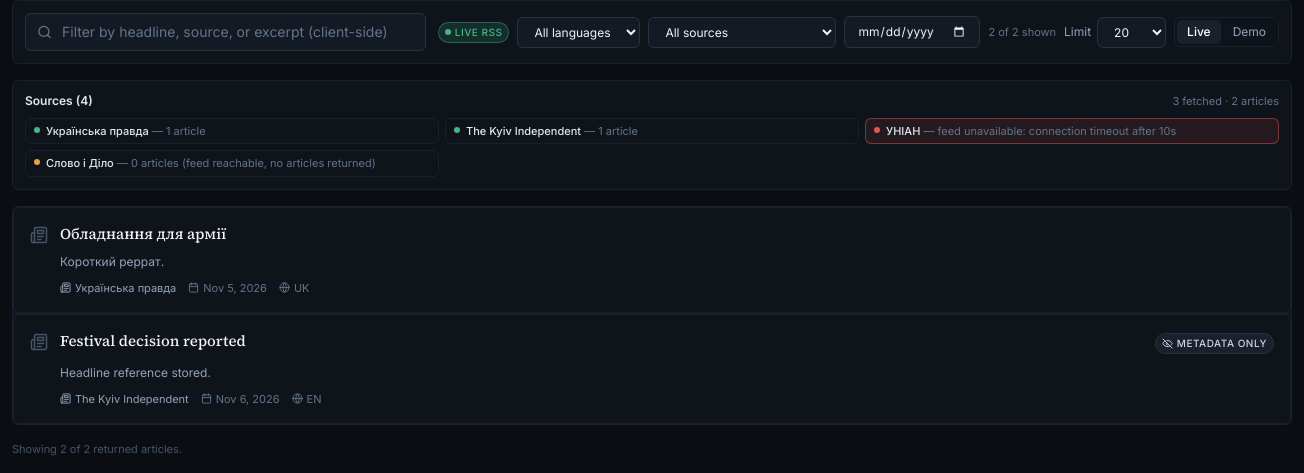
Test case: NewsPage — Slice B source behavior › 3. the publication-date filter shows only articles of that date
The width and height of the screenshot is (1304, 473).
Check: the heading "Обладнання для армії" is shown, box [60,224,226,244]
Type "2026-11-05" into the date field named "Filter by publication date". click: [912, 32]
box: [844,16,980,48]
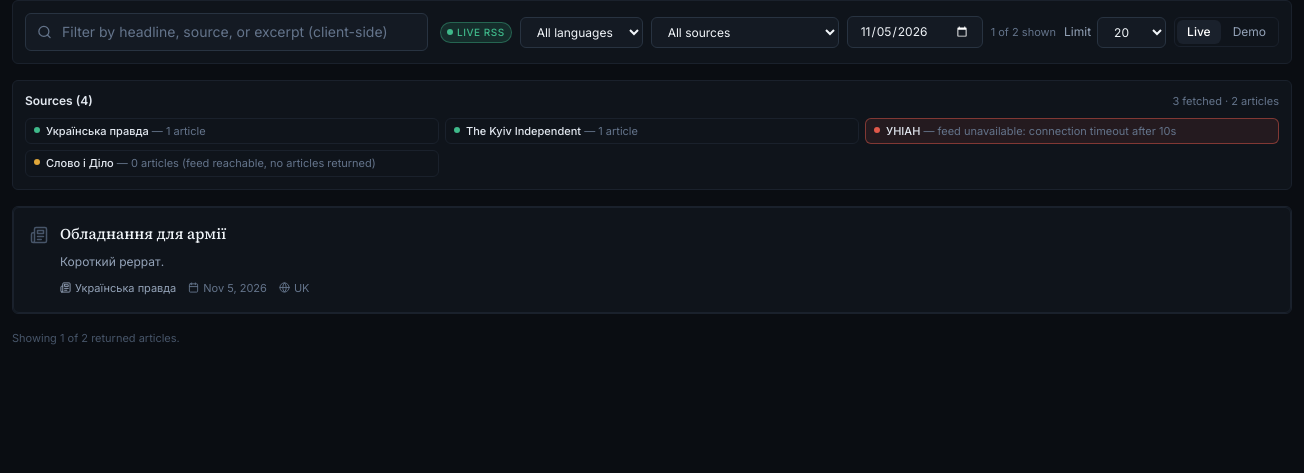
Check: the heading "Обладнання для армії" is shown, box [60,224,226,244]
Check: the button "Festival decision reported" is gone
Check: the text "1 of 2 shown" is shown, box [991,24,1056,40]
Type "2026-11-06" into the date field named "Filter by publication date". click: [915, 32]
box: [847,16,983,48]
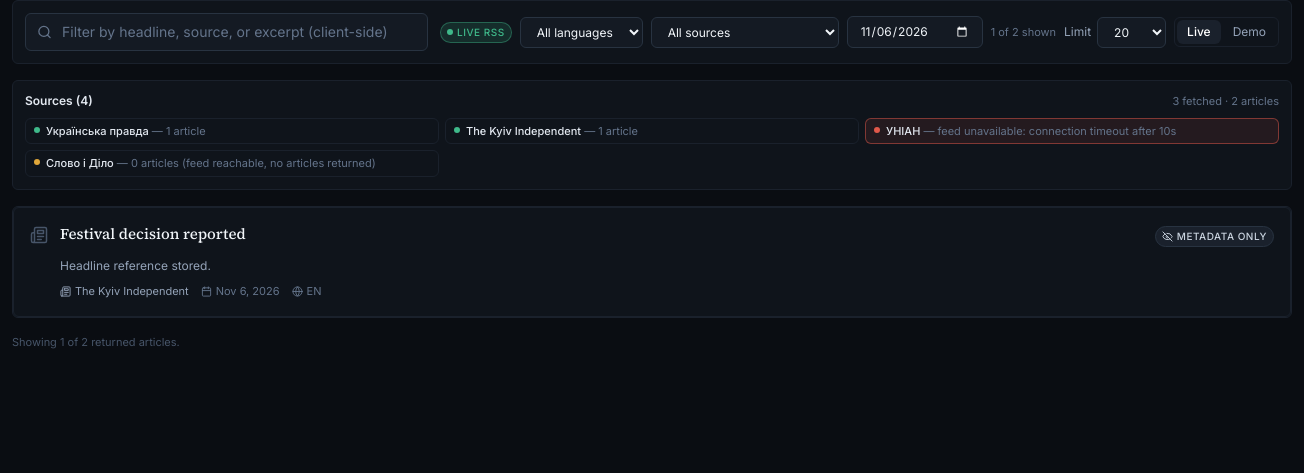
Check: the heading "Festival decision reported" is shown, box [60,224,246,244]
Check: the button "Обладнання для армії" is gone
